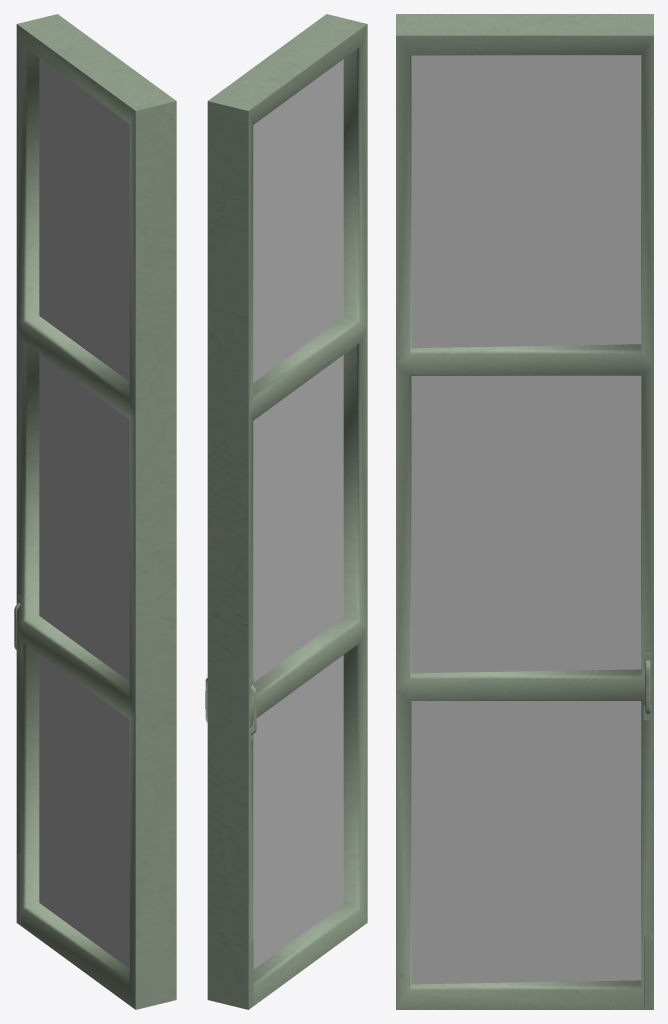
The model's file is SM_WW42_Door_1.fbx.
The picture shows the model from 3 angles, left to right: view 1: azimuth 30°, elevation 25°; view 2: azimuth 150°, elevation 25°; view 3: azimuth 270°, elevation 25°; orthographic projection. The views are drawn at different scales.
Parts seen in each view (by area): view 1: SM_WW42_Door_1; view 2: SM_WW42_Door_1; view 3: SM_WW42_Door_1.
Boxes of the visible parts, box(x1,y1,x2,y2) form: SM_WW42_Door_1: box(14, 14, 176, 1009); SM_WW42_Door_1: box(205, 14, 367, 1009); SM_WW42_Door_1: box(396, 14, 653, 1009).
Bounding box in the file's own units: 10.1 × 41.88 × 175.
Materials: 2 (1 with a texture image).
